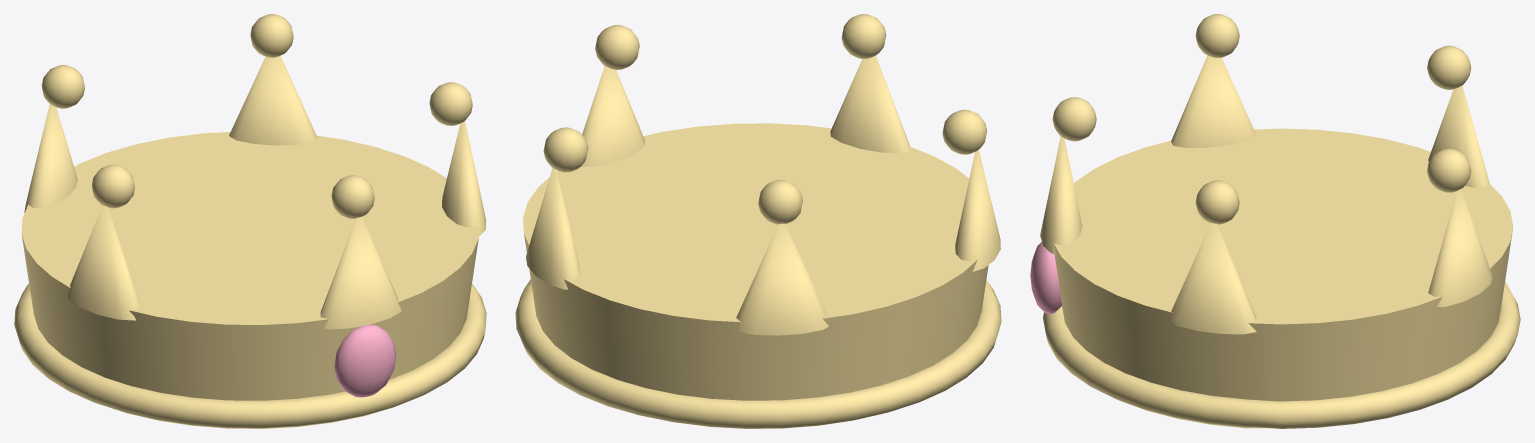
File: Acc_Crown.fbx
The picture shows the model from 3 angles, left to right: view 1: azimuth 30°, elevation 25°; view 2: azimuth 150°, elevation 25°; view 3: azimuth 270°, elevation 25°; orthographic projection. The views are drawn at different scales.
Parts seen in each view (by area): view 1: Acc_Crown; view 2: Acc_Crown; view 3: Acc_Crown.
Part boxes in pixels (x1,y1,x2,y2): Acc_Crown: (14, 14, 486, 428); Acc_Crown: (515, 14, 1001, 428); Acc_Crown: (1030, 14, 1520, 428).
Bounding box in the file's own units: 0.097 × 0.0525 × 0.0995.
